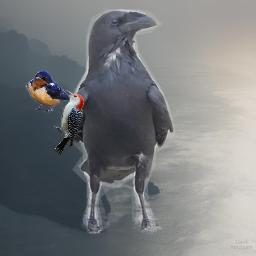Crow: (61, 9, 176, 234)
Swallow: (25, 70, 81, 113)
Woodpecker: (53, 89, 84, 155)
